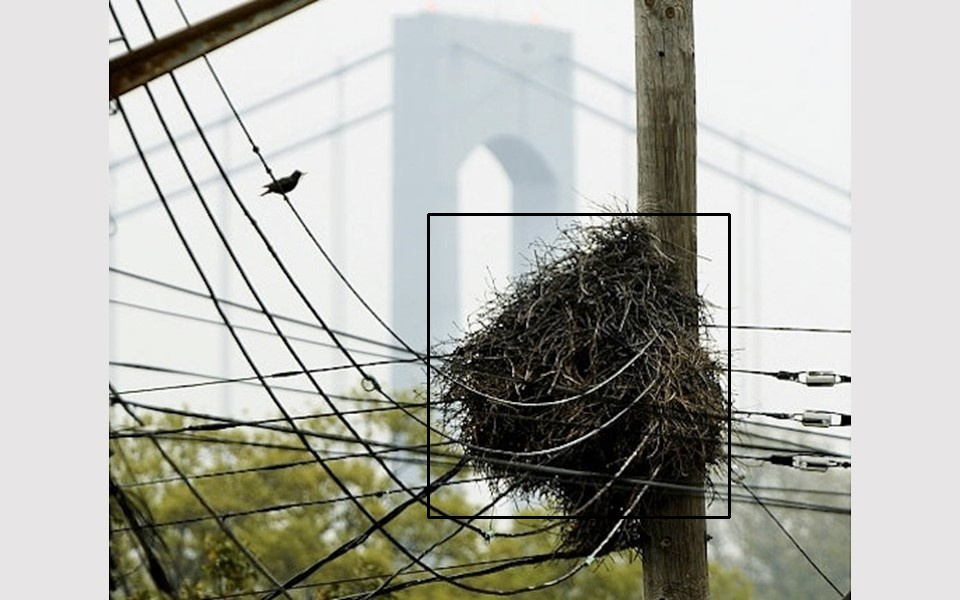bird-nest: (428, 214, 729, 517)
